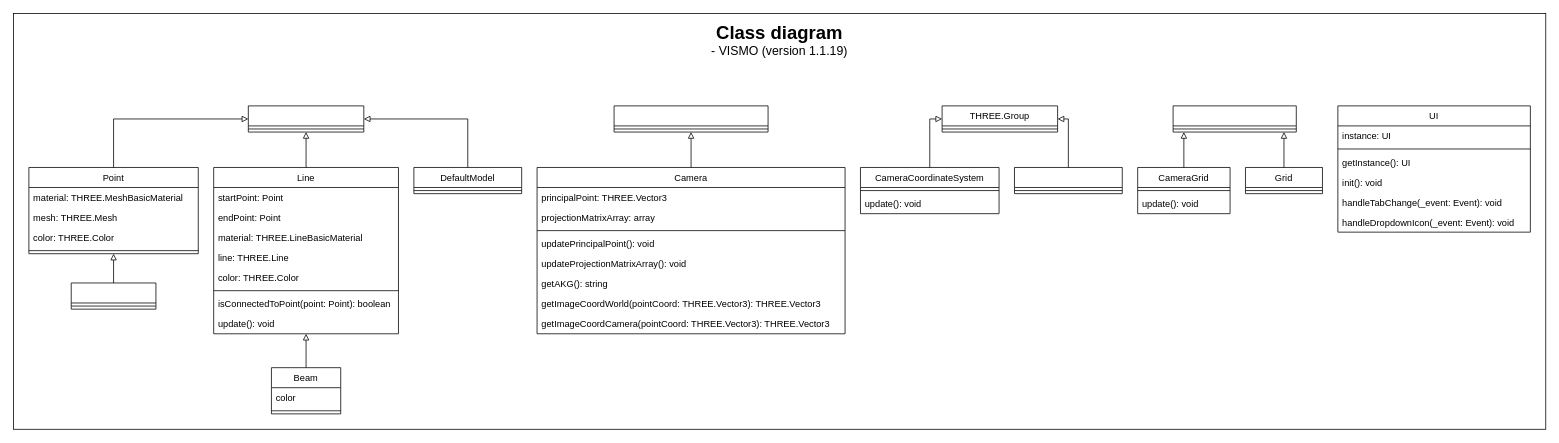
Image size: 1559x443. Some labels were removed from this diagram. Here are the shapes that lost their labels. From the top down, the centre of each, then its label:
At point 306,118: "THREE.Object3D".
At point 690,118: "THREE.PerspectiveCamera".
At point 1234,118: "THREE.LineSegments".
At point 1068,180: "CoordinateSystem".
At point 113,295: "Epipole".
